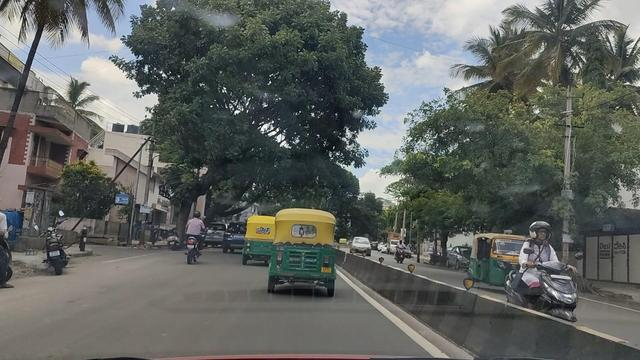LMV: (274, 213, 345, 296), (239, 213, 280, 267), (181, 212, 209, 263)
